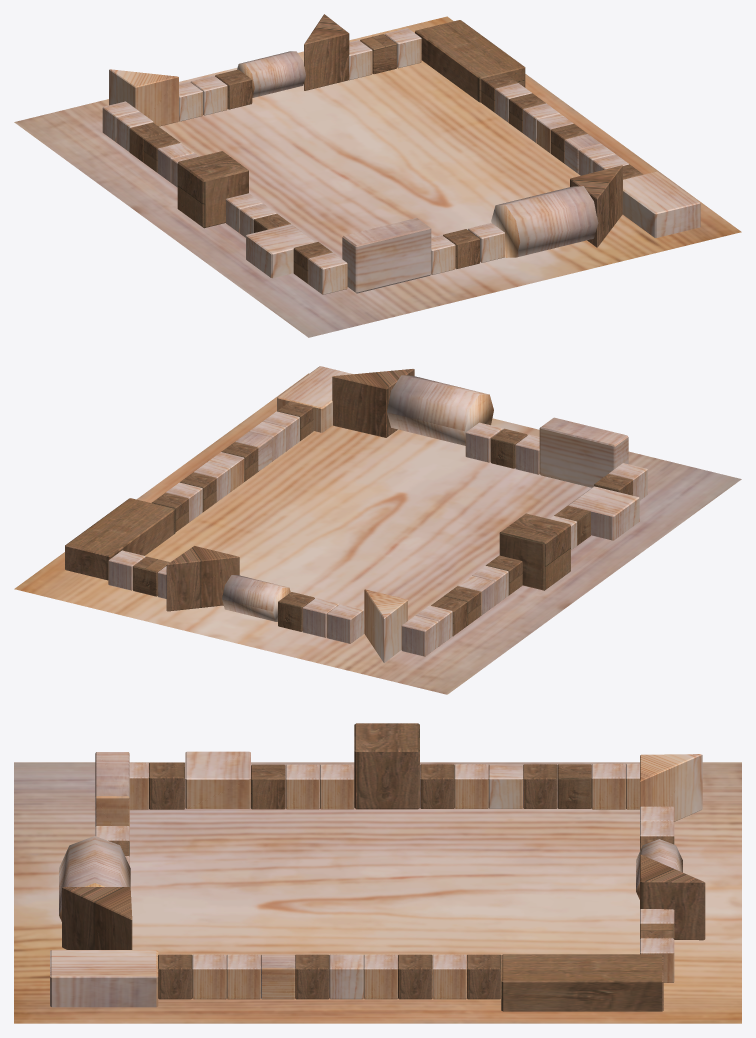
The model's file is Stage.glb.
3 renders of one model, top to bottom at view 1: azimuth 30°, elevation 25°; view 2: azimuth 150°, elevation 25°; view 3: azimuth 270°, elevation 25°, orthographic. The views are drawn at different scales.
Parts seen in each view (by area): view 1: Scene; view 2: Scene; view 3: Scene.
Part boxes in pixels (bbox=[...]): Scene: bbox=[14, 14, 741, 337]; Scene: bbox=[14, 366, 741, 694]; Scene: bbox=[14, 723, 741, 1023].
Bounding box in the file's own units: 9.25 × 1.08 × 10.9.
Materials: 2 (2 with a texture image).
